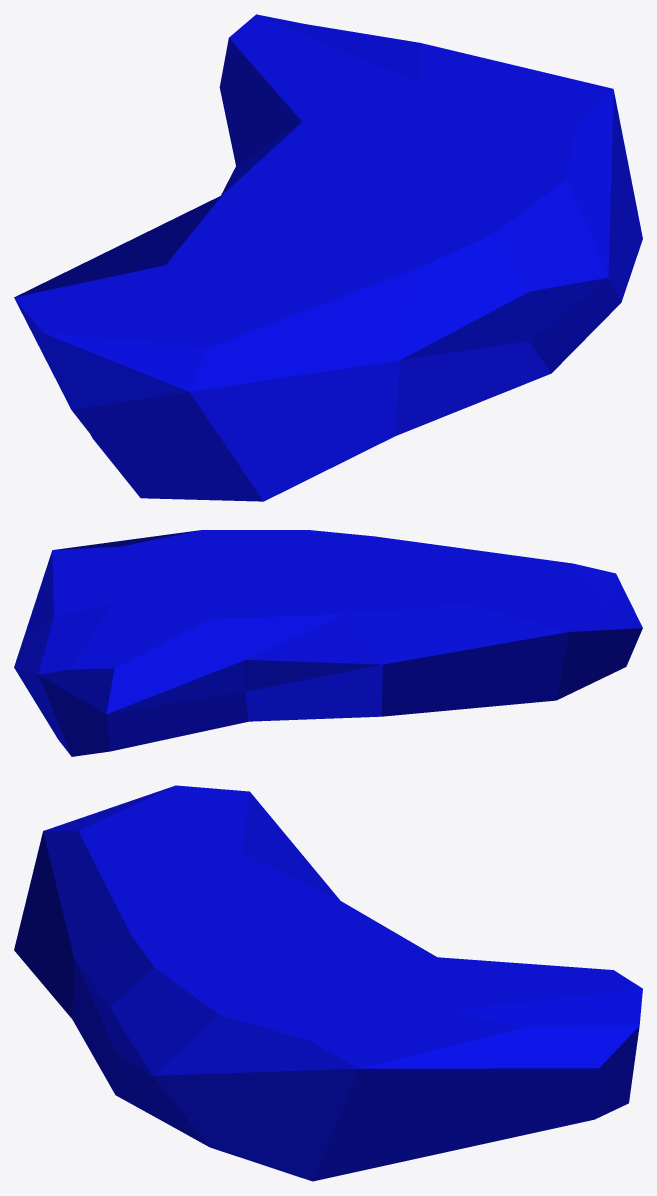
Rendered from SM_Big_FlatStone3.fbx.
3 views of the same model, one above another, from view 1: azimuth 30°, elevation 25°; view 2: azimuth 150°, elevation 25°; view 3: azimuth 270°, elevation 25° (orthographic). The views are drawn at different scales.
Visible parts, largest first — view 1: SM_Big_FlatStone3; view 2: SM_Big_FlatStone3; view 3: SM_Big_FlatStone3.
Part boxes in pixels (<box>): SM_Big_FlatStone3: <box>14,14,642,501</box>; SM_Big_FlatStone3: <box>14,530,642,756</box>; SM_Big_FlatStone3: <box>14,785,642,1181</box>.
Bounding box in the file's own units: 176 × 31.93 × 163.
